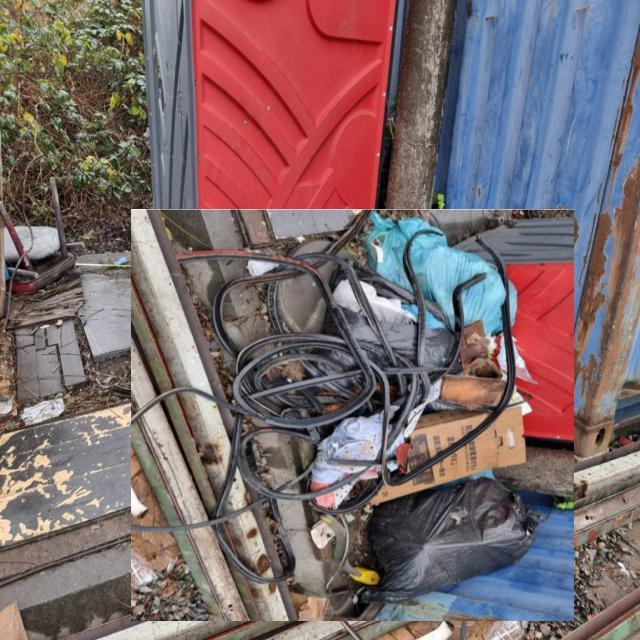Trashbag: (362, 472, 543, 604)
